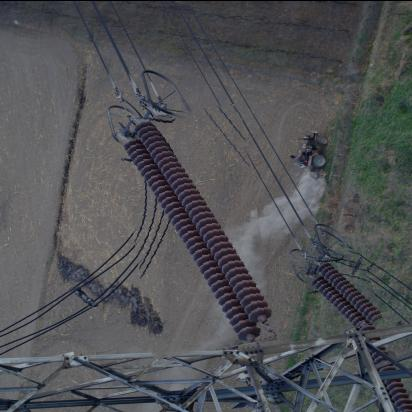insulator: (127, 107, 270, 355), (305, 251, 379, 336)
